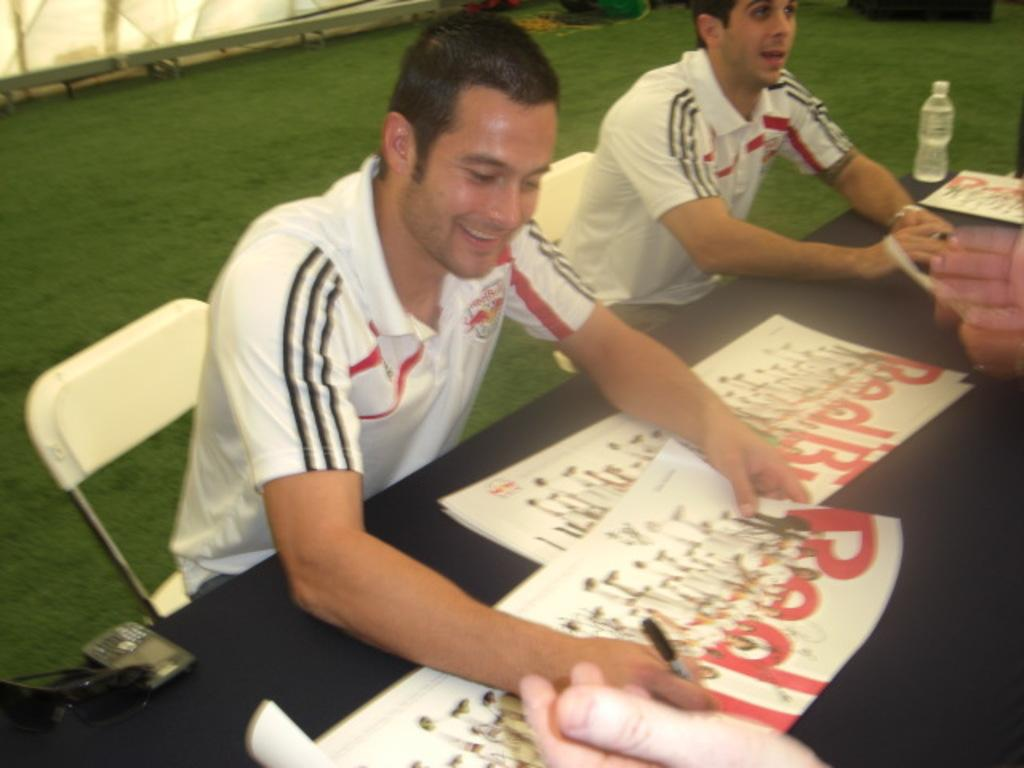no_helmet: (368, 100, 570, 188), (646, 94, 849, 106)
none: (244, 256, 509, 456), (602, 136, 814, 298)
